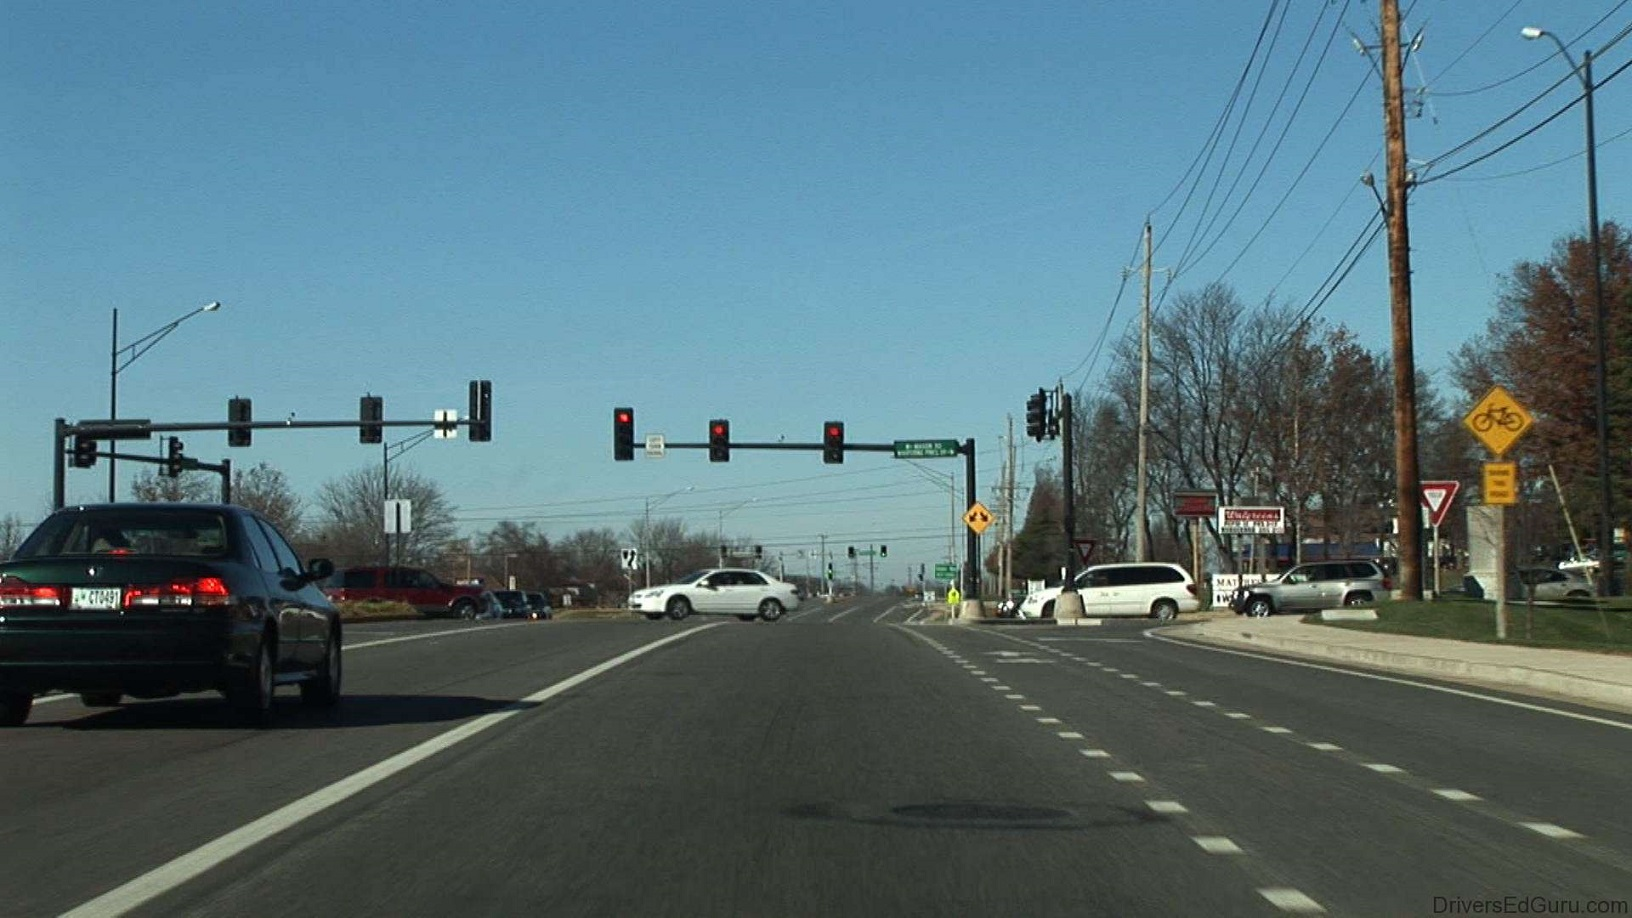traffic_light: (612, 406, 636, 463), (822, 419, 846, 466), (707, 418, 731, 464)
